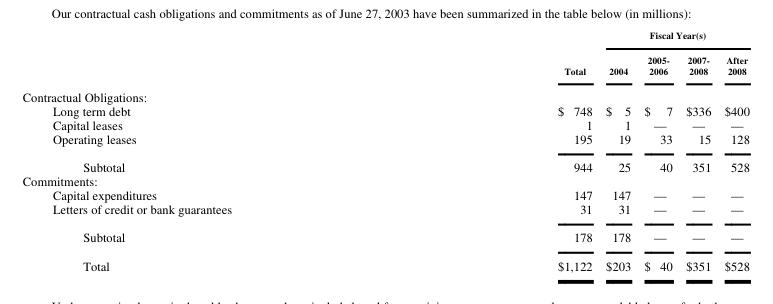table: (21, 28, 748, 273)
table column: (21, 28, 394, 273), (394, 28, 598, 273), (636, 28, 678, 273), (678, 28, 717, 273), (598, 28, 636, 273), (717, 28, 748, 273)
table column header: (21, 28, 748, 82)
table projected row header: (21, 82, 748, 103), (21, 173, 748, 187)
table row: (21, 47, 748, 82), (21, 222, 748, 250), (21, 250, 748, 273), (21, 82, 748, 103), (21, 131, 748, 152), (21, 152, 748, 173), (21, 201, 748, 222), (21, 28, 748, 47), (21, 103, 748, 117), (21, 117, 748, 131), (21, 173, 748, 187), (21, 187, 748, 201)
table spanning cell: (394, 28, 598, 82), (598, 28, 748, 47)
